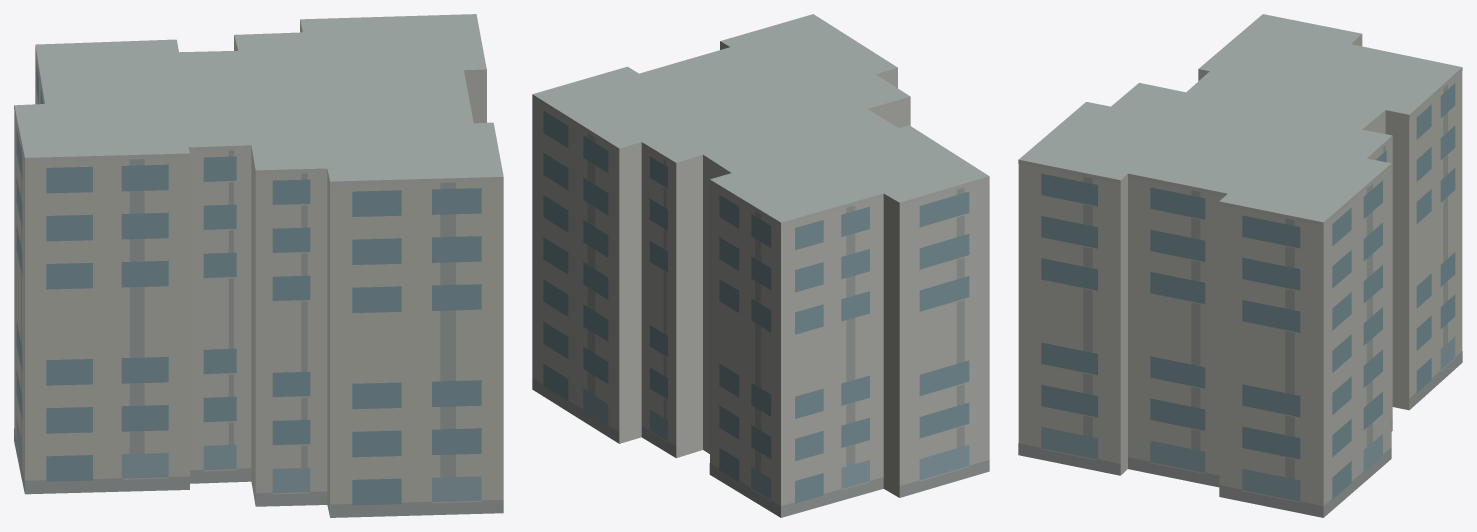
The model's file is survey-upis-32607392.glb.
3 views of the same model, side by side, from view 1: azimuth 30°, elevation 25°; view 2: azimuth 150°, elevation 25°; view 3: azimuth 270°, elevation 25° (orthographic). The views are drawn at different scales.
Visible parts, largest first — view 1: survey-upis-32607392.tmp; view 2: survey-upis-32607392.tmp; view 3: survey-upis-32607392.tmp.
Boxes of the visible parts, x1,y1,x2,y2 form: survey-upis-32607392.tmp: [14, 14, 503, 517]; survey-upis-32607392.tmp: [532, 14, 989, 517]; survey-upis-32607392.tmp: [1018, 14, 1462, 517].
Size of the model in its own units: 28.29 by 18.7 by 25.47.
